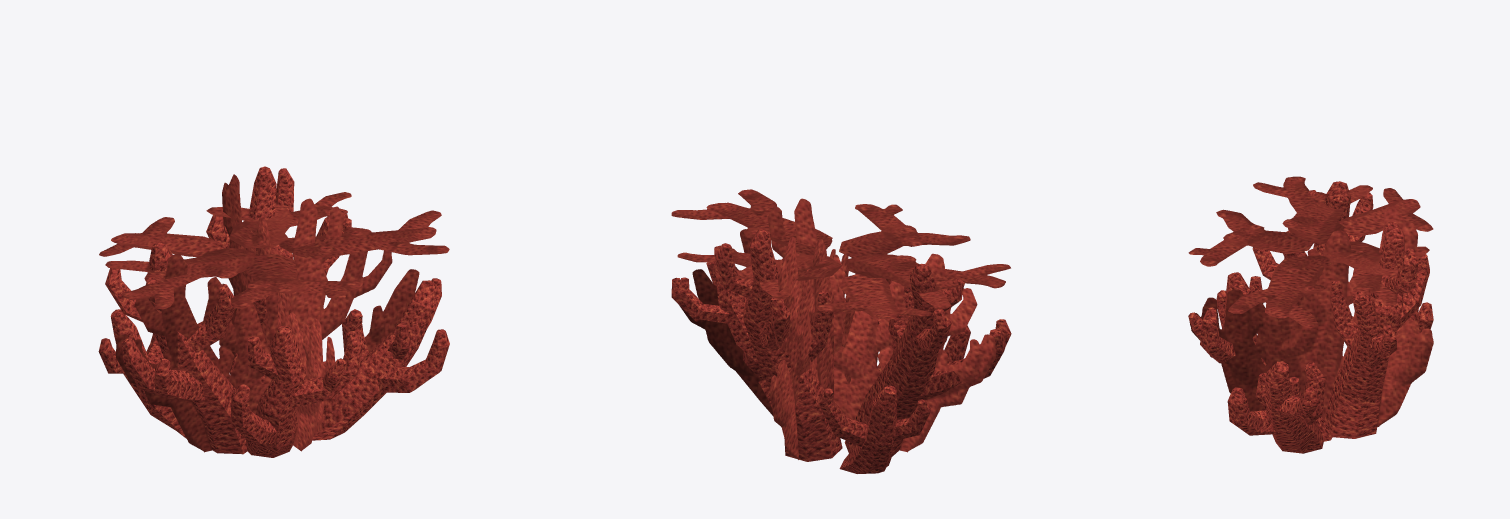
The model's file is Coral.glb.
3 views of the same model, side by side, from view 1: azimuth 30°, elevation 25°; view 2: azimuth 150°, elevation 25°; view 3: azimuth 270°, elevation 25° (orthographic). The views are drawn at different scales.
Visible parts, largest first — view 1: Coral impostor, Colonia; view 2: Coral impostor, Colonia; view 3: Coral impostor, Colonia.
Boxes of the visible parts, left/top/right/bottom form: Coral impostor: left=99, top=174, right=449, bottom=452; Colonia: left=98, top=166, right=449, bottom=457; Coral impostor: left=671, top=189, right=1010, bottom=459; Colonia: left=671, top=229, right=1011, bottom=473; Coral impostor: left=1188, top=176, right=1433, bottom=426; Colonia: left=1188, top=181, right=1433, bottom=453.
Size of what is drawn, in the model's own units: 1.49 by 1.49 by 1.49.
2 materials, 2 textured.
